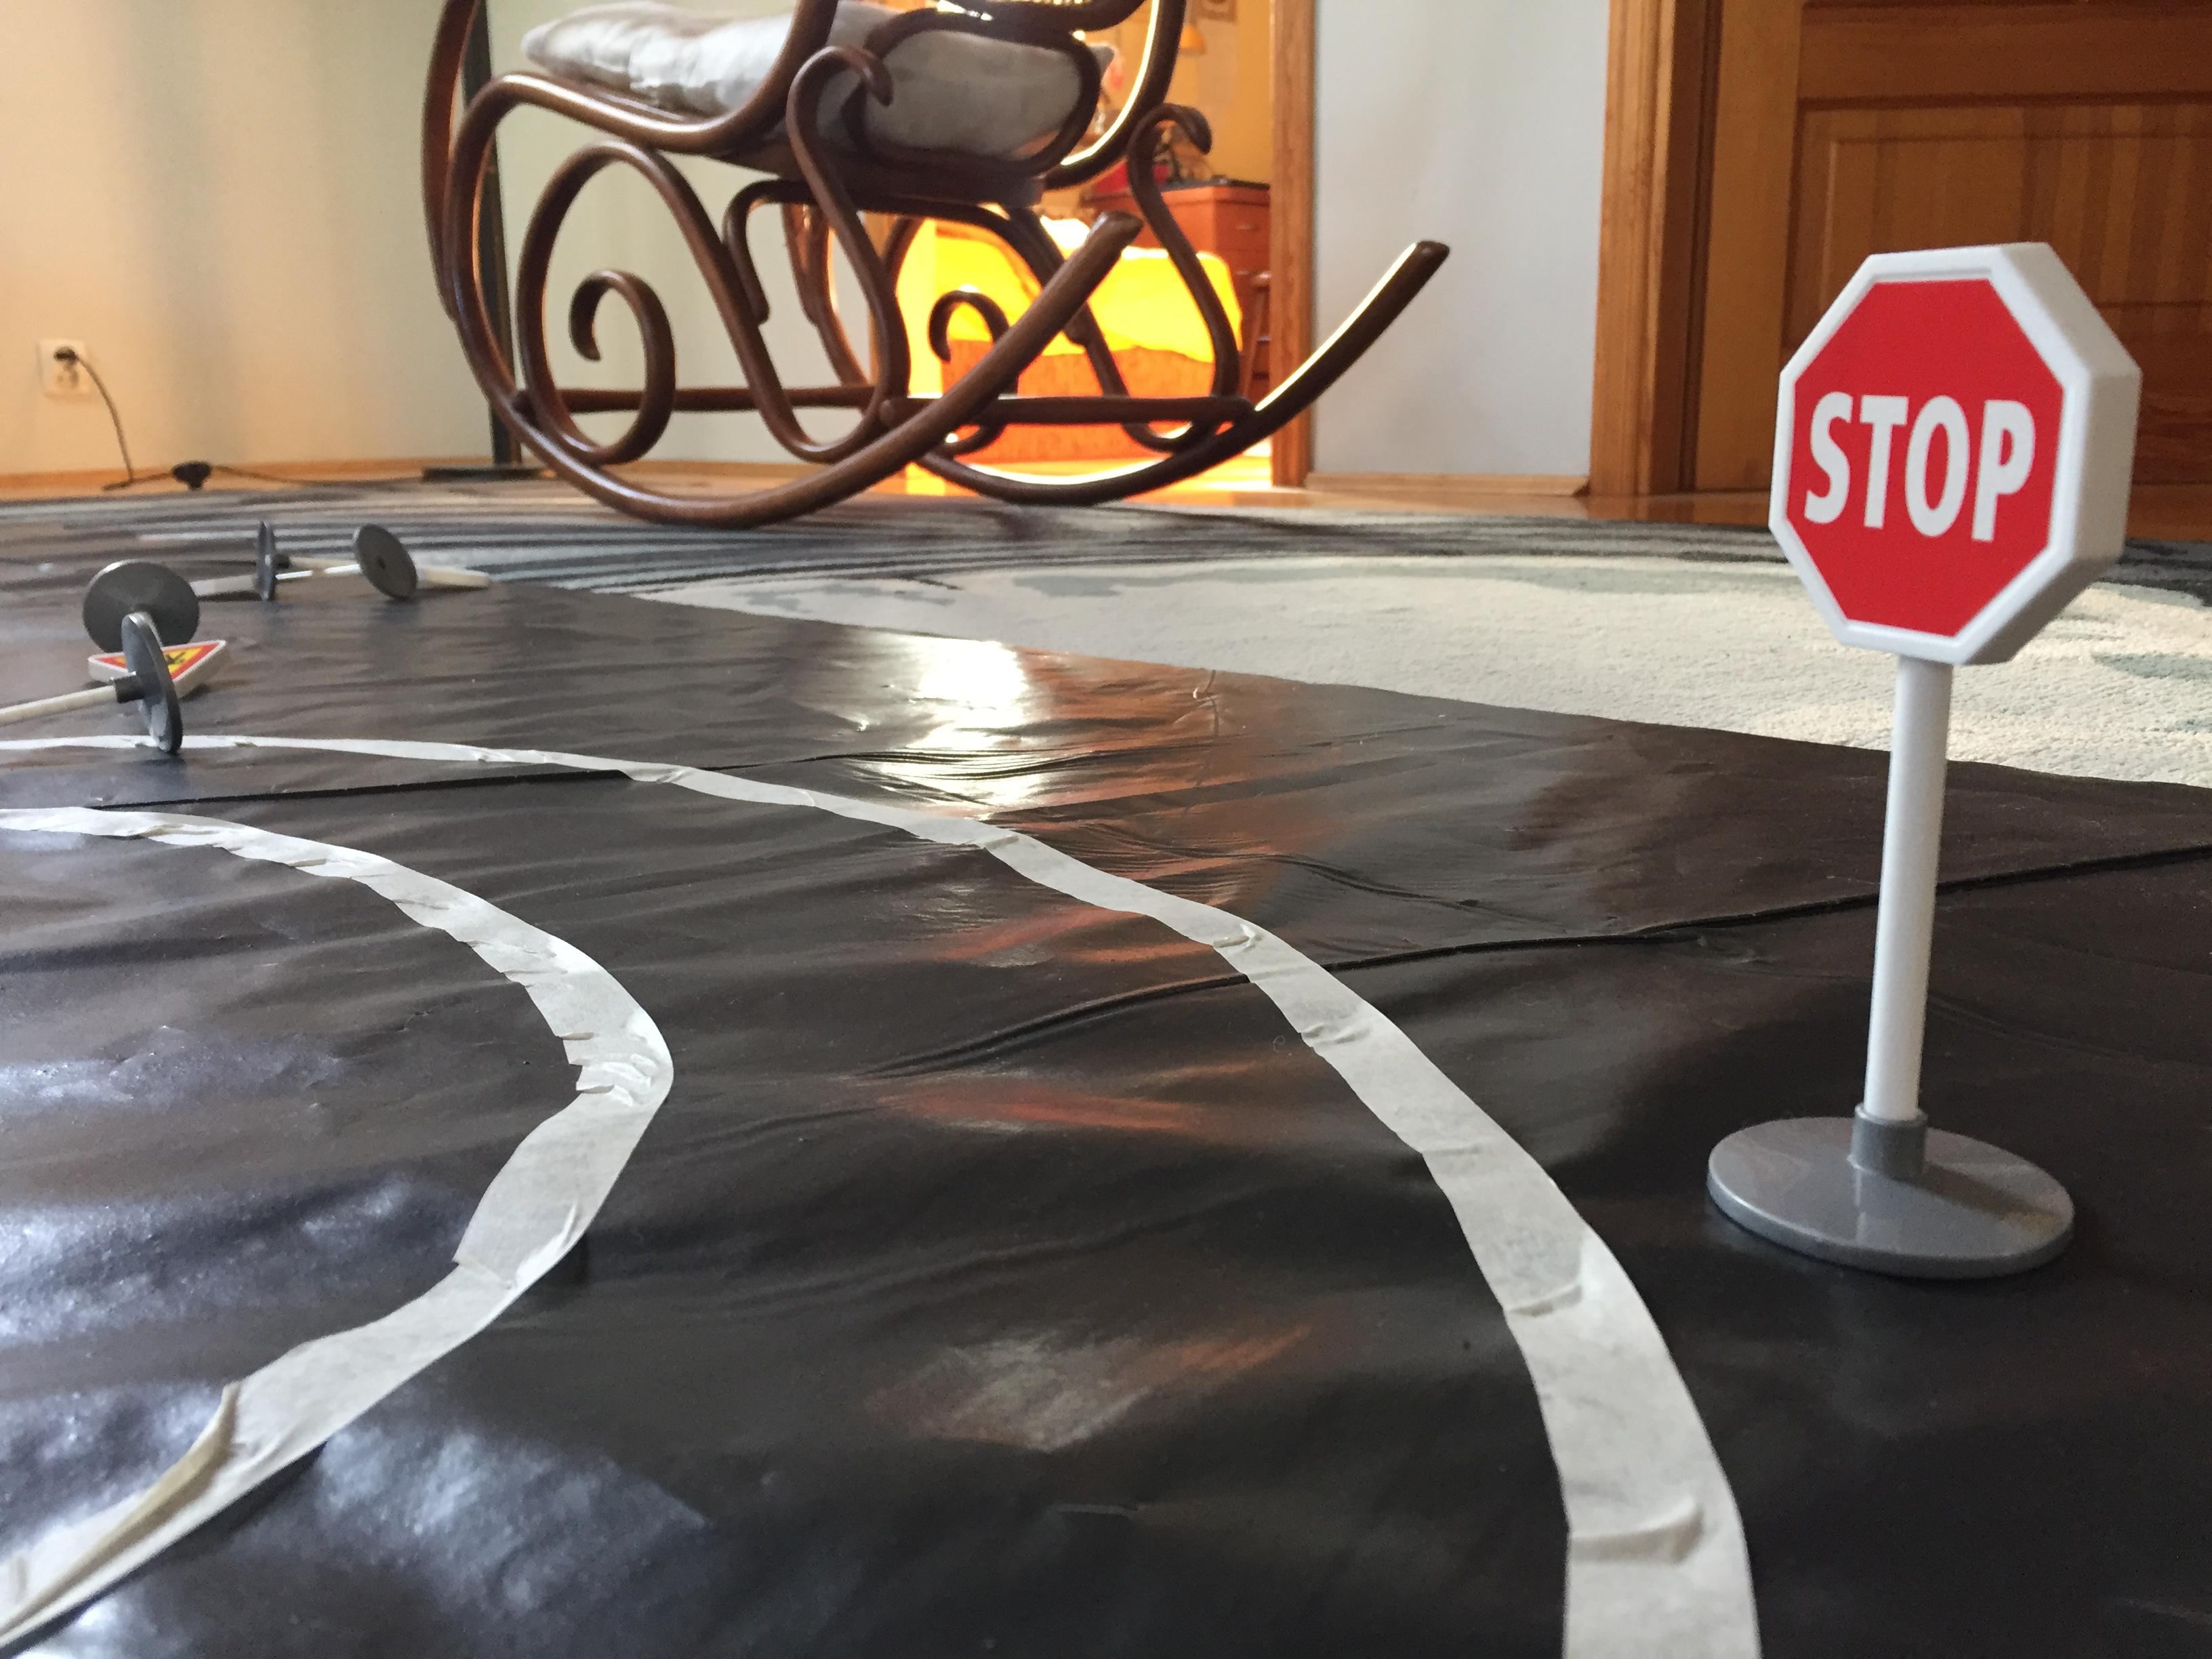stop: (1761, 234, 2151, 688)
